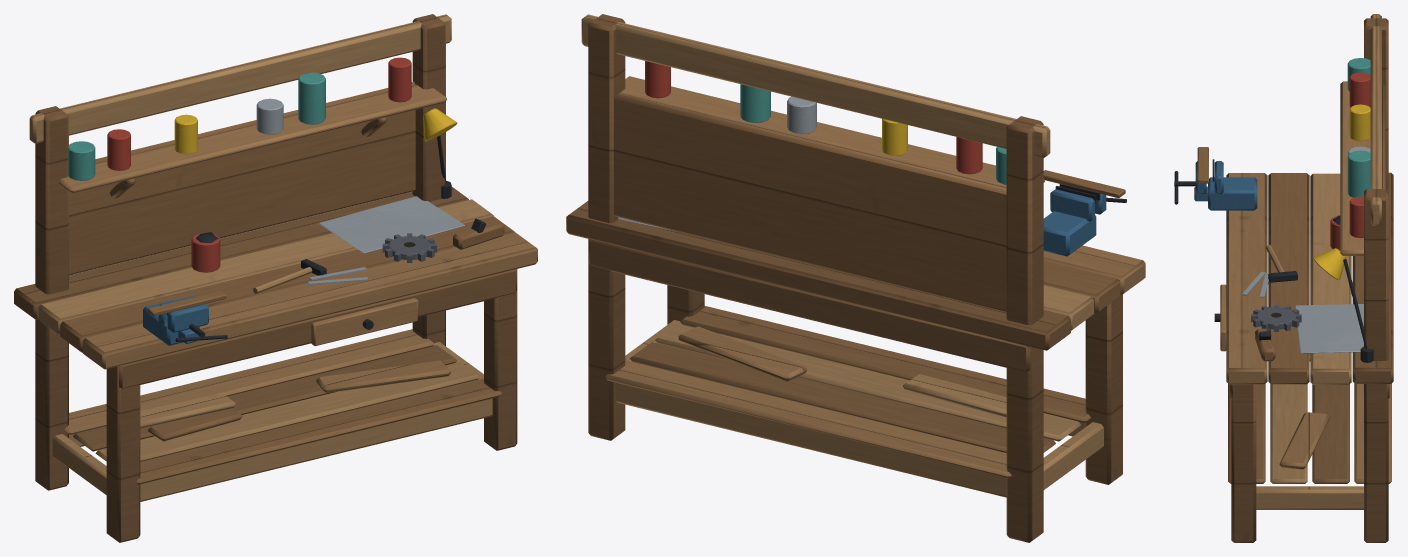
The model's file is workbench_settler.glb.
3 views of the same model, side by side, from view 1: azimuth 30°, elevation 25°; view 2: azimuth 150°, elevation 25°; view 3: azimuth 270°, elevation 25° (orthographic). The views are drawn at different scales.
Parts seen in each view (by area): view 1: workbench_settler; view 2: workbench_settler; view 3: workbench_settler.
Part boxes in pixels (box(x1,y1,x2,y2)): workbench_settler: box(14, 14, 537, 542); workbench_settler: box(566, 14, 1145, 542); workbench_settler: box(1174, 14, 1393, 542).
Size of the model in its own units: 2.09 by 1.7 by 0.978.
18 materials, 18 textured.
